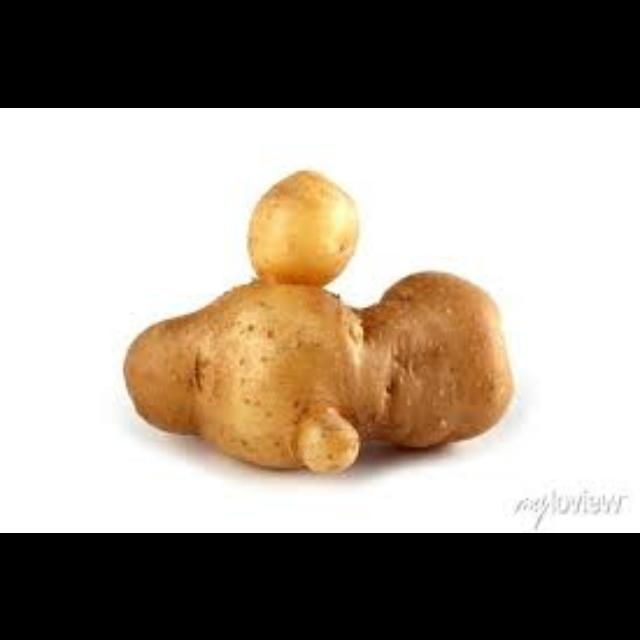Damaged potato: (112, 156, 532, 502)
